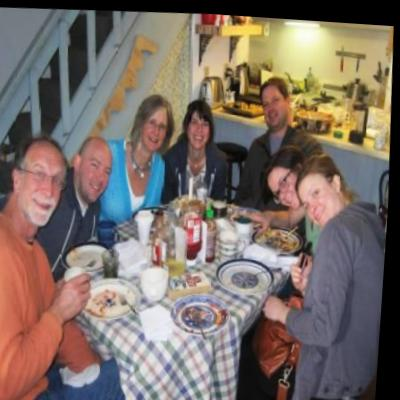happy: (25, 145, 66, 224), (301, 167, 346, 224), (80, 138, 114, 201), (268, 156, 303, 204), (261, 83, 291, 127), (143, 101, 171, 148), (188, 104, 212, 144)
